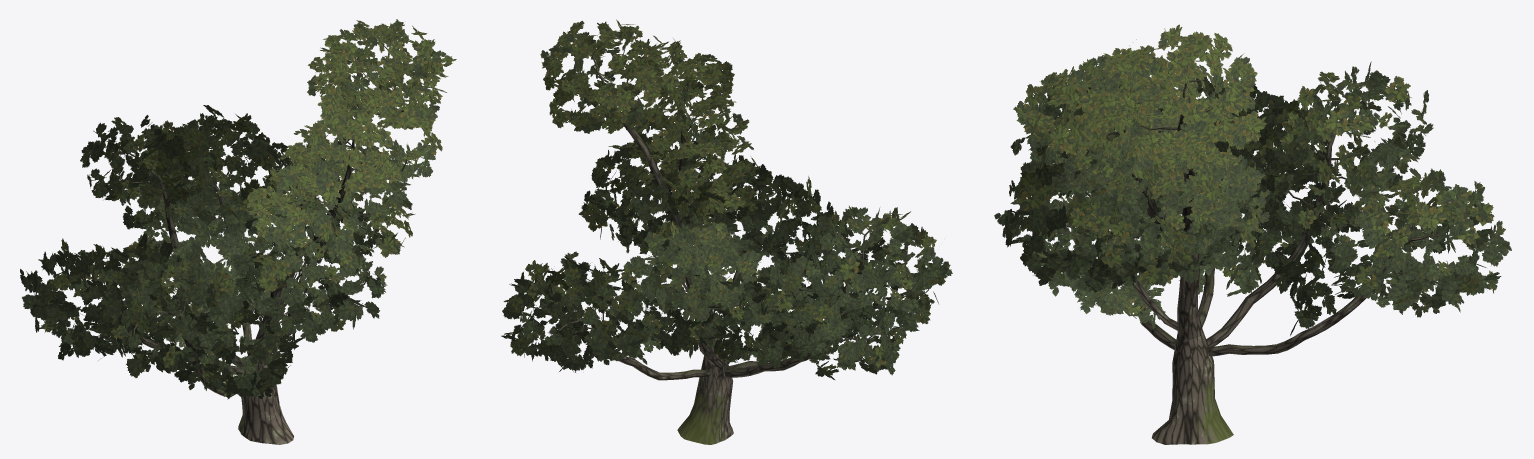
File: oak_c.glb
The picture shows the model from 3 angles, left to right: view 1: azimuth 30°, elevation 25°; view 2: azimuth 150°, elevation 25°; view 3: azimuth 270°, elevation 25°; orthographic projection. The views are drawn at different scales.
Visible parts, largest first — view 1: oak_c_extra0, oak_c_LOD0; view 2: oak_c_extra0, oak_c_LOD0; view 3: oak_c_extra0, oak_c_LOD0.
Part boxes in pixels (left/top/right/bottom): oak_c_extra0: left=20, top=19, right=456, bottom=399; oak_c_LOD0: left=38, top=37, right=415, bottom=444; oak_c_extra0: left=501, top=19, right=952, bottom=380; oak_c_LOD0: left=525, top=42, right=912, bottom=444; oak_c_extra0: left=994, top=24, right=1511, bottom=335; oak_c_LOD0: left=1047, top=65, right=1489, bottom=444.
Size of what is drawn, in the model's own units: 20.95 by 19.25 by 19.65.
Materials: 2 (2 with a texture image).
